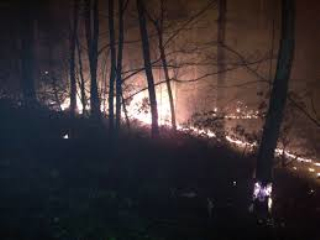fire: (46, 53, 239, 146)
